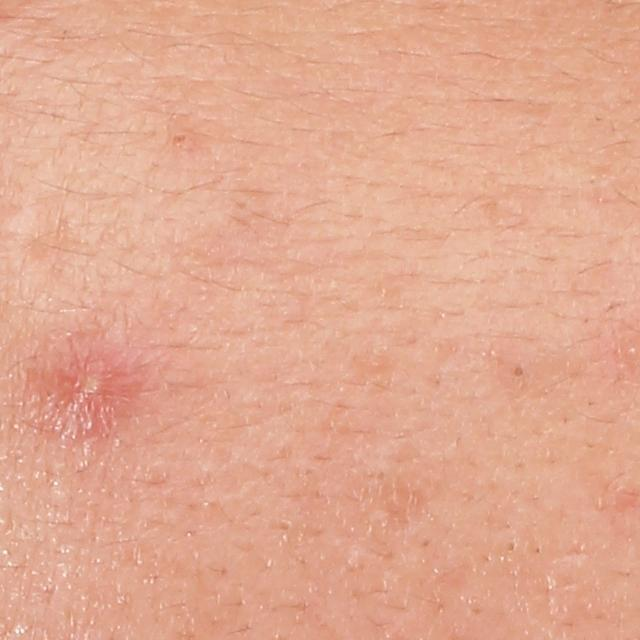comedo: (166, 125, 197, 158), (510, 360, 530, 386)
